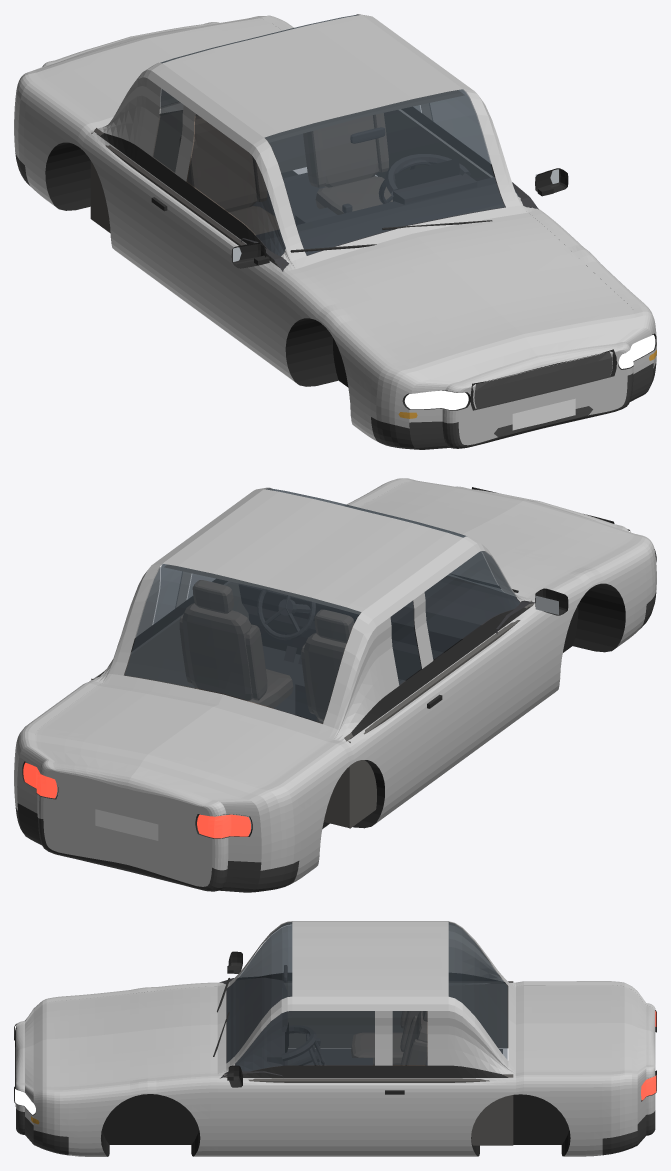
The model's file is car_falke.fbx.
The picture shows the model from 3 angles, top to bottom: view 1: azimuth 30°, elevation 25°; view 2: azimuth 150°, elevation 25°; view 3: azimuth 270°, elevation 25°; orthographic projection. The views are drawn at different scales.
Visible parts, largest first — view 1: falke__hood, falke__glass, falke__roof, falke__doorR, falke__trunk, falke__seats, falke__interior, falke__fenderFR, falke__pillars, falke__cabin, falke__quarterR, falke__wells (+10 smaller); view 2: falke__glass, falke__trunk, falke__roof, falke__hood, falke__doorR, falke__rearPanel, falke__seats, falke__quarterR, falke__pillars, falke__interior, falke__cabin, falke__fenderFR (+7 smaller); view 3: falke__hood, falke__glass, falke__doorL, falke__trunk, falke__roof, falke__quarterL, falke__pillars, falke__fenderFL, falke__cabin, falke__wells, falke__interior, falke__seals (+5 smaller).
Part boxes in pixels (x1,y1,x2,y2): falke__hood: (285, 210, 645, 391); falke__glass: (153, 14, 519, 255); falke__roof: (151, 14, 473, 144); falke__doorR: (128, 166, 276, 365); falke__trunk: (25, 15, 538, 271); falke__seats: (179, 113, 392, 235); falke__interior: (241, 127, 538, 271); falke__fenderFR: (265, 266, 449, 441); falke__pillars: (101, 14, 523, 262); falke__cabin: (90, 90, 490, 266); falke__quarterR: (14, 73, 139, 265); falke__wells: (45, 142, 348, 387); falke__glass: (125, 488, 519, 723); falke__trunk: (25, 574, 535, 810); falke__roof: (152, 489, 473, 619); falke__hood: (346, 478, 645, 599); falke__doorR: (394, 607, 542, 808); falke__rearPanel: (37, 761, 228, 886); falke__seats: (179, 580, 354, 723); falke__quarterR: (221, 707, 405, 883); falke__pillars: (100, 487, 523, 735); falke__interior: (238, 578, 534, 721); falke__cabin: (91, 564, 533, 828); falke__fenderFR: (531, 537, 656, 708); falke__hood: (16, 982, 217, 1092); falke__glass: (227, 922, 507, 1071); falke__doorL: (230, 1078, 441, 1156); falke__trunk: (217, 981, 655, 1077); falke__roof: (292, 921, 448, 1004); falke__quarterL: (441, 1069, 646, 1156); falke__pillars: (226, 921, 508, 1074); falke__fenderFL: (25, 1078, 229, 1156); falke__cabin: (224, 981, 513, 1145); falke__wells: (101, 1094, 570, 1156); falke__interior: (219, 965, 502, 1078); falke__seals: (226, 972, 508, 1077).
Bounding box in the file's own units: 2.28 × 1.31 × 4.97.
